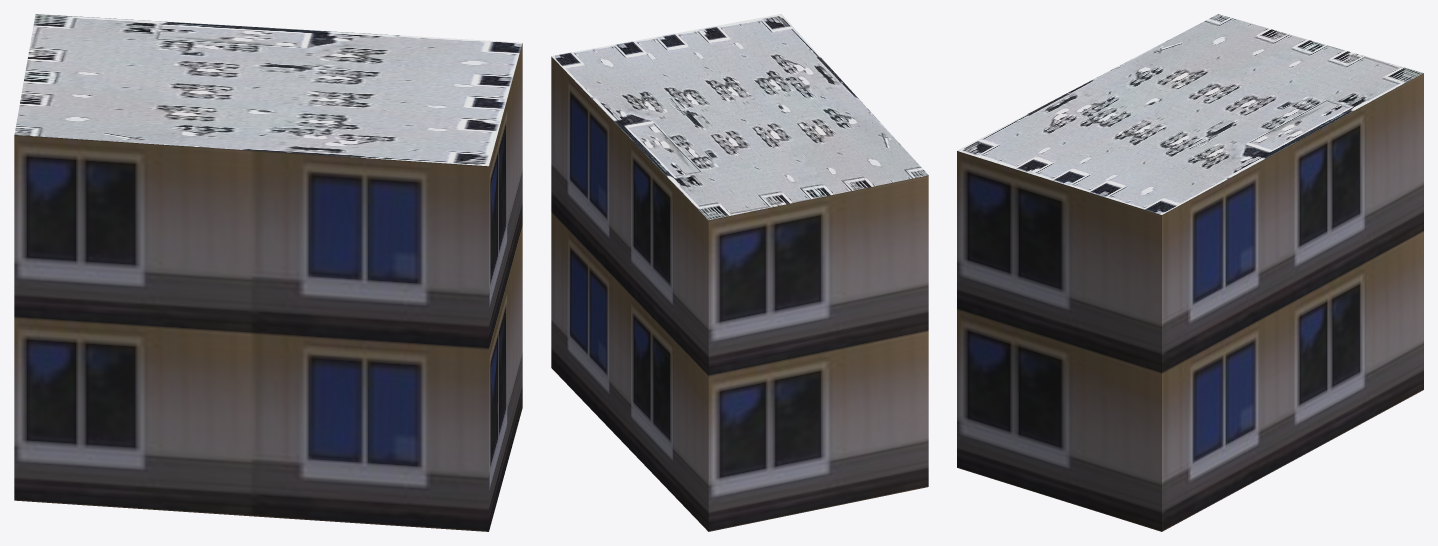
The model's file is ResTex__1740.fbx.
3 renders of one model, left to right at view 1: azimuth 30°, elevation 25°; view 2: azimuth 150°, elevation 25°; view 3: azimuth 270°, elevation 25°, orthographic. The views are drawn at different scales.
Parts seen in each view (by area): view 1: CityEngineMaterial_5_m, CityEngineMaterial_8_m; view 2: CityEngineMaterial_5_m, CityEngineMaterial_8_m; view 3: CityEngineMaterial_5_m, CityEngineMaterial_8_m.
Boxes of the visible parts, bbox=[...] form: CityEngineMaterial_5_m: bbox=[14, 43, 522, 531]; CityEngineMaterial_8_m: bbox=[14, 14, 522, 166]; CityEngineMaterial_5_m: bbox=[551, 56, 928, 531]; CityEngineMaterial_8_m: bbox=[551, 14, 928, 220]; CityEngineMaterial_5_m: bbox=[957, 73, 1423, 531]; CityEngineMaterial_8_m: bbox=[957, 14, 1423, 214].
Size of the model in its own units: 8.17 by 6 by 8.01.
2 materials, 2 textured.
